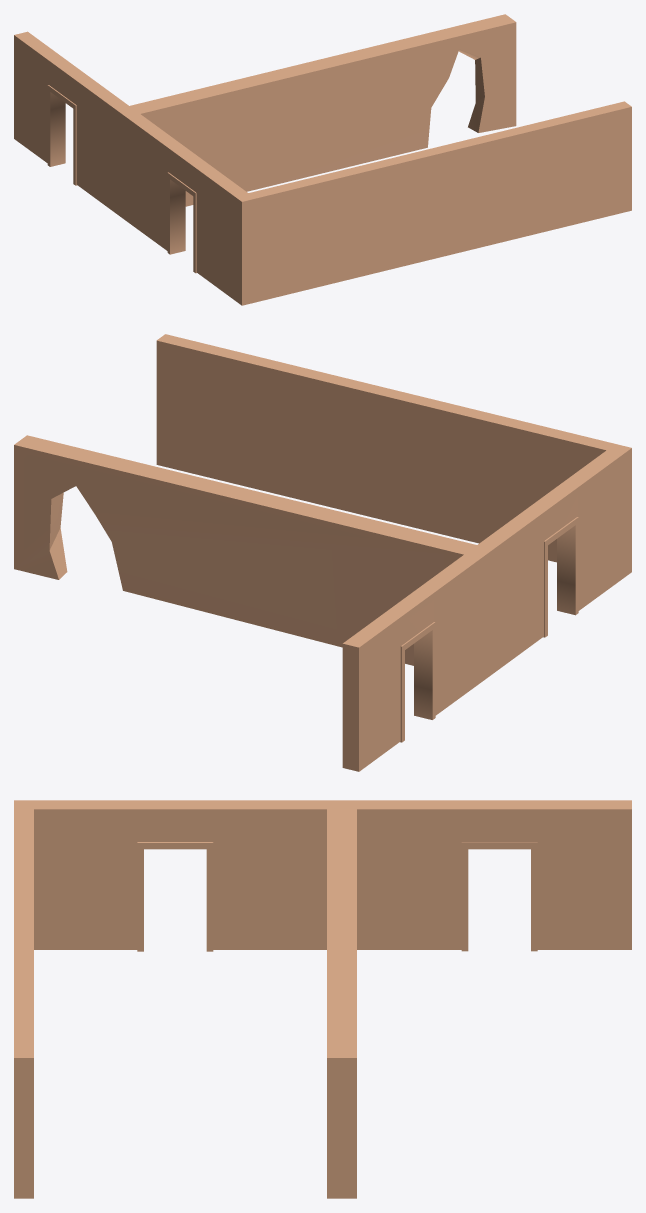
Rendered from QuartoESupLow.fbx.
3 views of the same model, one above another, from view 1: azimuth 30°, elevation 25°; view 2: azimuth 150°, elevation 25°; view 3: azimuth 270°, elevation 25° (orthographic). The views are drawn at different scales.
Parts seen in each view (by area): view 1: QuartoESup.003; view 2: QuartoESup.003; view 3: QuartoESup.003.
Boxes of the visible parts, x1=… form: QuartoESup.003: x1=14, y1=14, x2=631, y2=305; QuartoESup.003: x1=14, y1=334, x2=631, y2=771; QuartoESup.003: x1=14, y1=800, x2=631, y2=1198.
Bounding box in the file's own units: 1564 × 400 × 1580.
